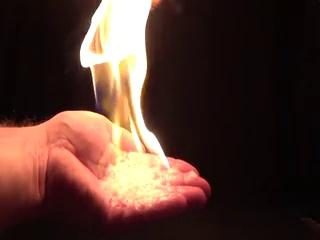Fire: (78, 1, 169, 183)
